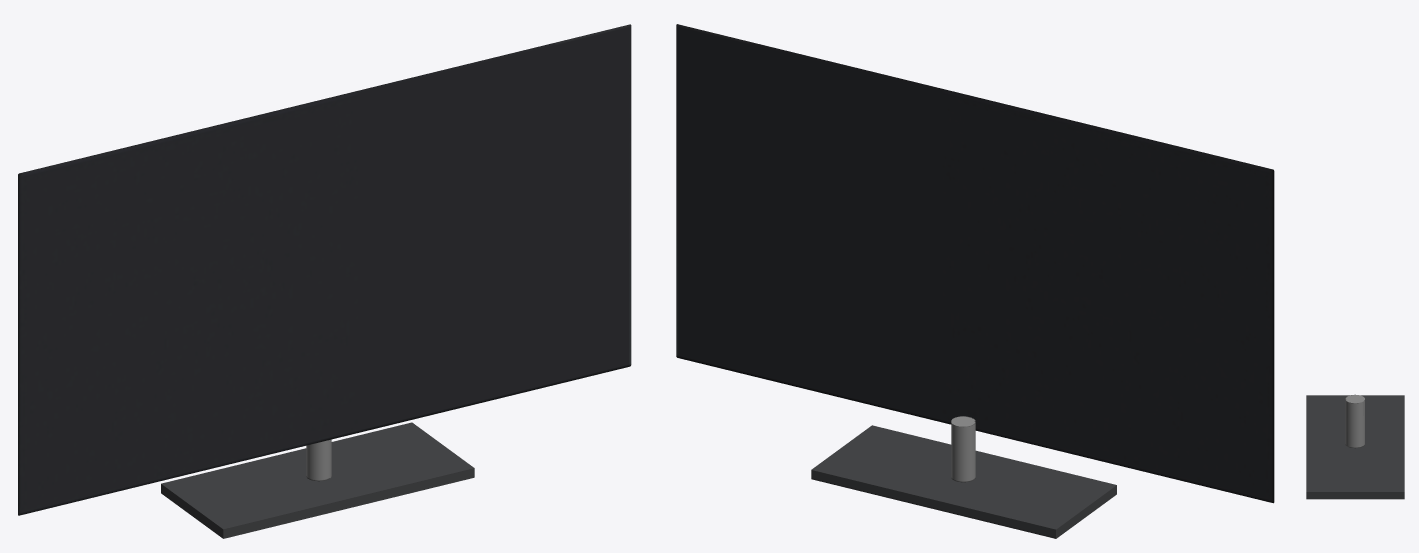
3 renders of one model, left to right at view 1: azimuth 30°, elevation 25°; view 2: azimuth 150°, elevation 25°; view 3: azimuth 270°, elevation 25°, orthographic. The views are drawn at different scales.
Parts seen in each view (by area): view 1: c3, c1, c2; view 2: c3, c1, c2; view 3: c1, c2.
Part boxes in pixels (box(x1,y1,x2,y2)): c3: box(18, 24, 631, 515); c1: box(161, 422, 474, 538); c2: box(306, 439, 331, 481); c3: box(676, 24, 1274, 503); c1: box(811, 425, 1116, 538); c2: box(951, 416, 975, 482); c1: box(1306, 395, 1404, 499); c2: box(1345, 394, 1364, 448).
Size of the model in its own units: 252 by 155 by 43.54.
